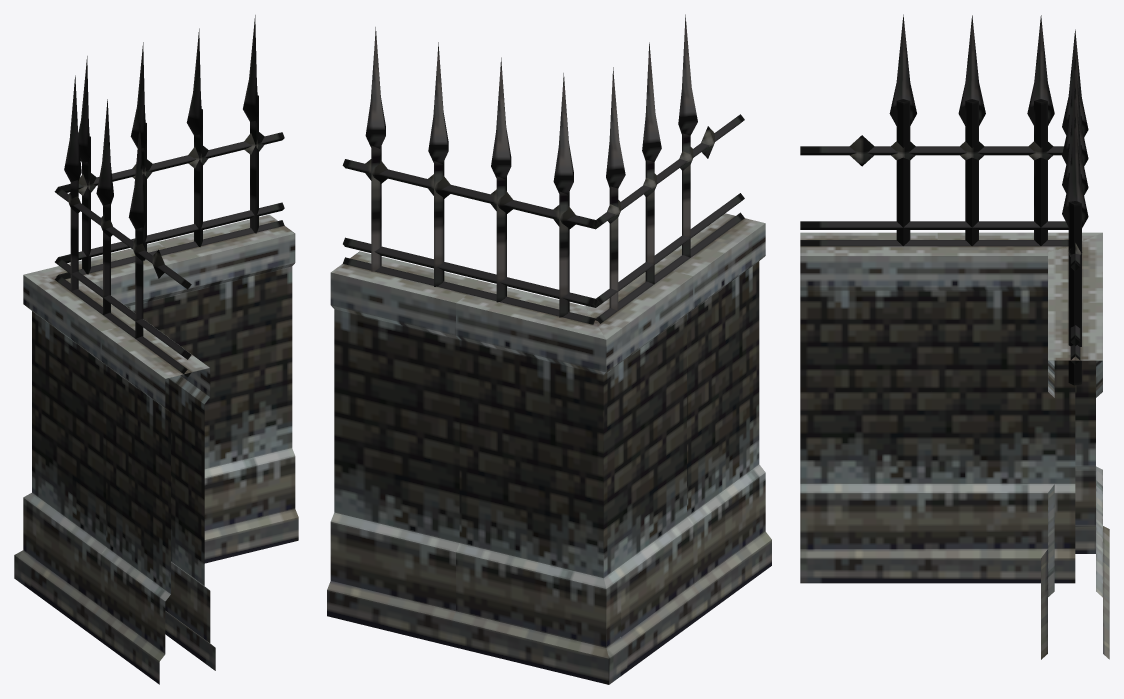
Rendered from EnvBdgMD_Snow_Seidoukikan_A_GrdWall_LF_CoOut_Fence.FBX.
The picture shows the model from 3 angles, left to right: view 1: azimuth 30°, elevation 25°; view 2: azimuth 150°, elevation 25°; view 3: azimuth 270°, elevation 25°; orthographic projection. The views are drawn at different scales.
Parts seen in each view (by area): view 1: EnvBdgMD_Snow_Seidoukikan_A_GrdWall_LF_CoOut_Fence; view 2: EnvBdgMD_Snow_Seidoukikan_A_GrdWall_LF_CoOut_Fence; view 3: EnvBdgMD_Snow_Seidoukikan_A_GrdWall_LF_CoOut_Fence.
Boxes of the visible parts, x1,y1,x2,y2 form: EnvBdgMD_Snow_Seidoukikan_A_GrdWall_LF_CoOut_Fence: [14, 15, 298, 684]; EnvBdgMD_Snow_Seidoukikan_A_GrdWall_LF_CoOut_Fence: [327, 14, 771, 684]; EnvBdgMD_Snow_Seidoukikan_A_GrdWall_LF_CoOut_Fence: [800, 14, 1109, 659].
Bounding box in the file's own units: 225 × 445 × 225.
Materials: 1 (1 with a texture image).
